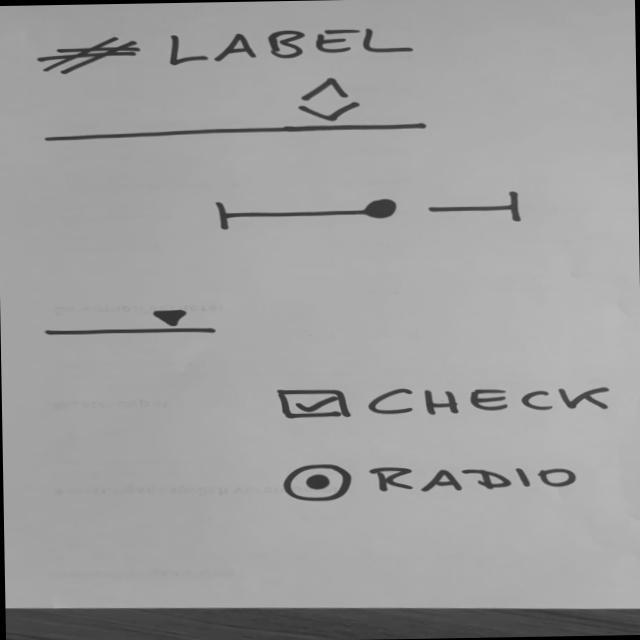checkbox: (271, 379, 626, 425)
label: (32, 22, 422, 77)
number-input: (32, 73, 434, 146)
radio: (278, 457, 588, 504)
select: (40, 306, 224, 341)
slider: (209, 188, 532, 233)
